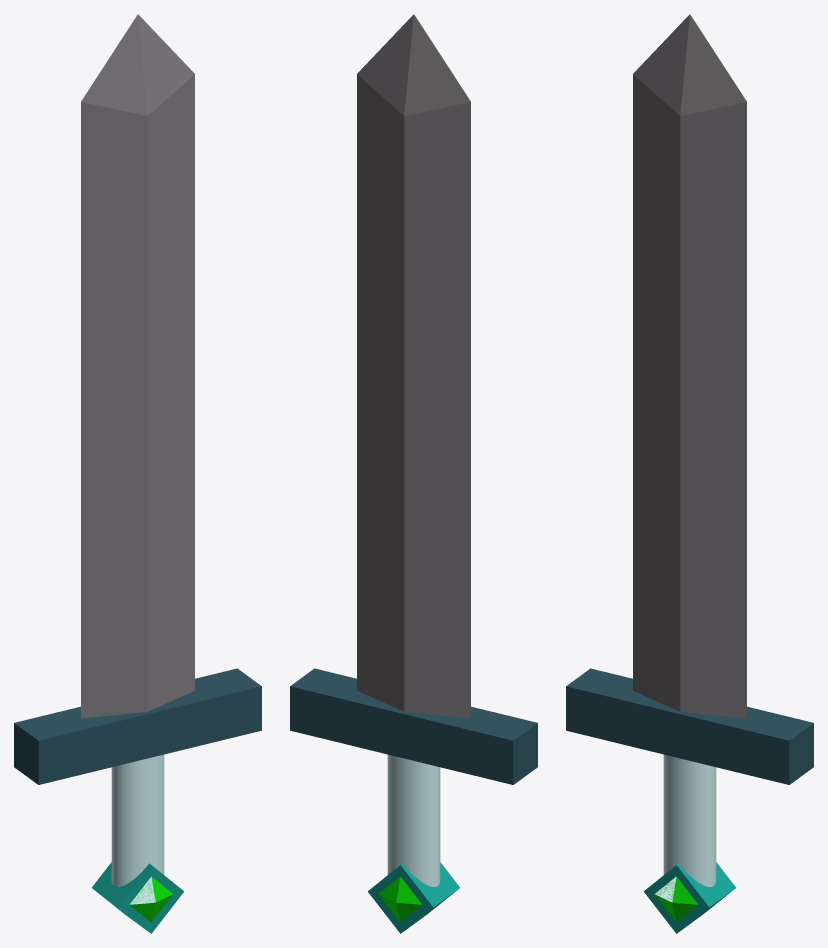
Rendered from TestSword.fbx.
3 renders of one model, left to right at view 1: azimuth 30°, elevation 25°; view 2: azimuth 150°, elevation 25°; view 3: azimuth 330°, elevation 25°, orthographic.
Visible parts, largest first — view 1: Blade, Hilt, Handle; view 2: Blade, Hilt, Handle; view 3: Blade, Hilt, Handle.
Part boxes in pixels (<box>): Blade: <box>81,14,194,718</box>; Hilt: <box>14,668,261,784</box>; Handle: <box>92,754,183,933</box>; Blade: <box>357,14,470,718</box>; Hilt: <box>290,668,537,784</box>; Handle: <box>368,754,459,933</box>; Blade: <box>633,14,746,718</box>; Hilt: <box>566,668,813,784</box>; Handle: <box>644,754,735,933</box>.
Bounding box in the file's own units: 81.34 × 317 × 22.43.
